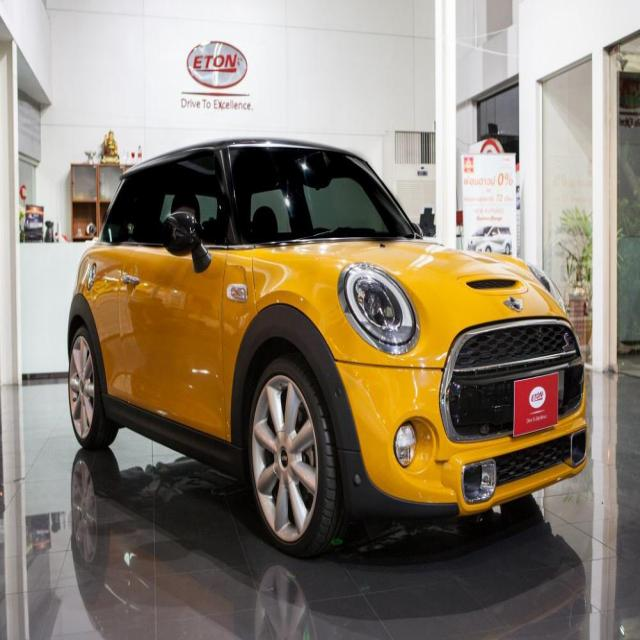front_bumper: (336, 316, 589, 514)
front_glass: (231, 147, 420, 248)
front_right_door: (117, 147, 231, 441)
hood: (252, 238, 572, 370)
right_mirror: (162, 212, 214, 272)
wheel: (68, 325, 344, 562)
